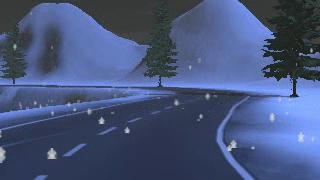Lane: (0, 85, 248, 179)
